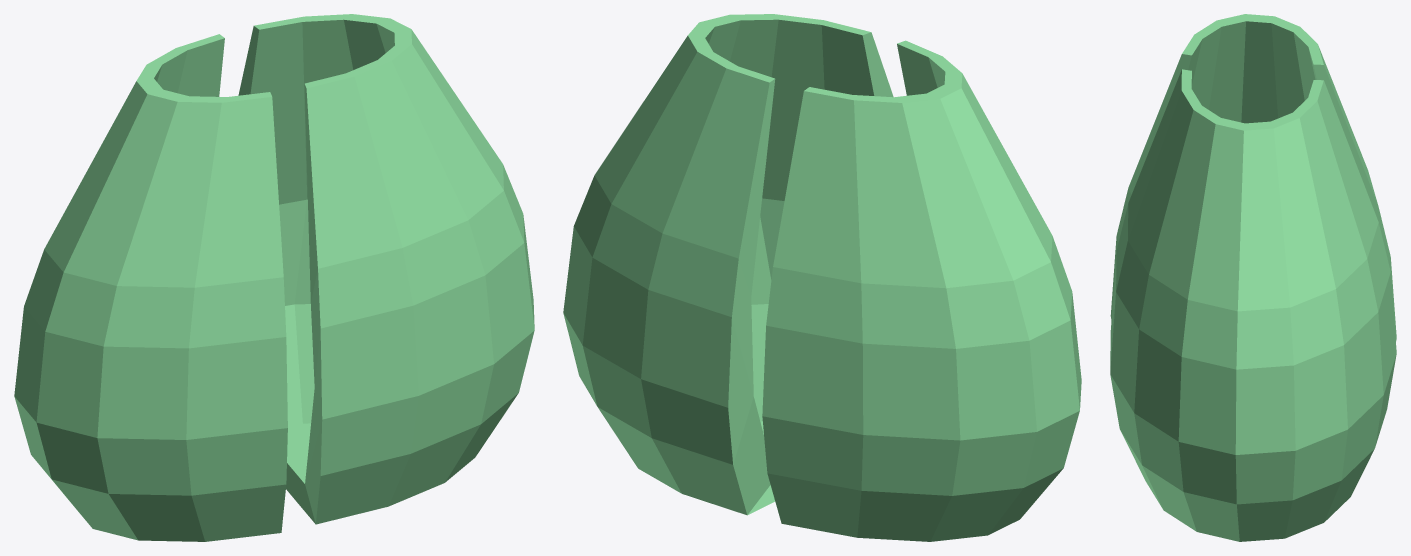
Rendered from Vase_bedroom_Cut.fbx.
3 renders of one model, left to right at view 1: azimuth 30°, elevation 25°; view 2: azimuth 150°, elevation 25°; view 3: azimuth 270°, elevation 25°, orthographic. The views are drawn at different scales.
Parts seen in each view (by area): view 1: Cylinder.001, Cylinder.000; view 2: Cylinder.001, Cylinder.000; view 3: Cylinder.000, Cylinder.001.
Boxes of the visible parts, box(x1,y1,x2,y2) form: Cylinder.001: box(14, 34, 287, 541); Cylinder.000: box(238, 14, 534, 524); Cylinder.001: box(762, 40, 1081, 541); Cylinder.000: box(563, 14, 893, 515); Cylinder.000: box(1110, 69, 1396, 541); Cylinder.001: box(1110, 14, 1396, 340).
Bounding box in the file's own units: 2055 × 1666 × 1121.
